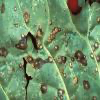Tomato leaf bacterial spot: (1, 1, 99, 99)
